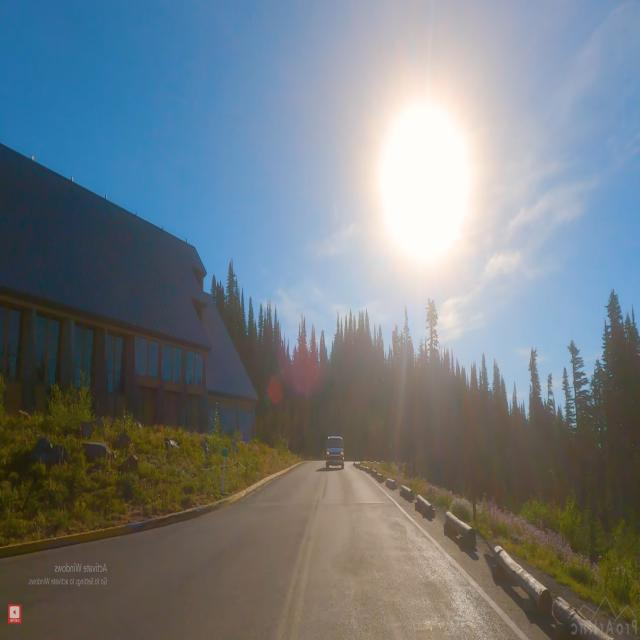sun: (353, 72, 504, 308)
